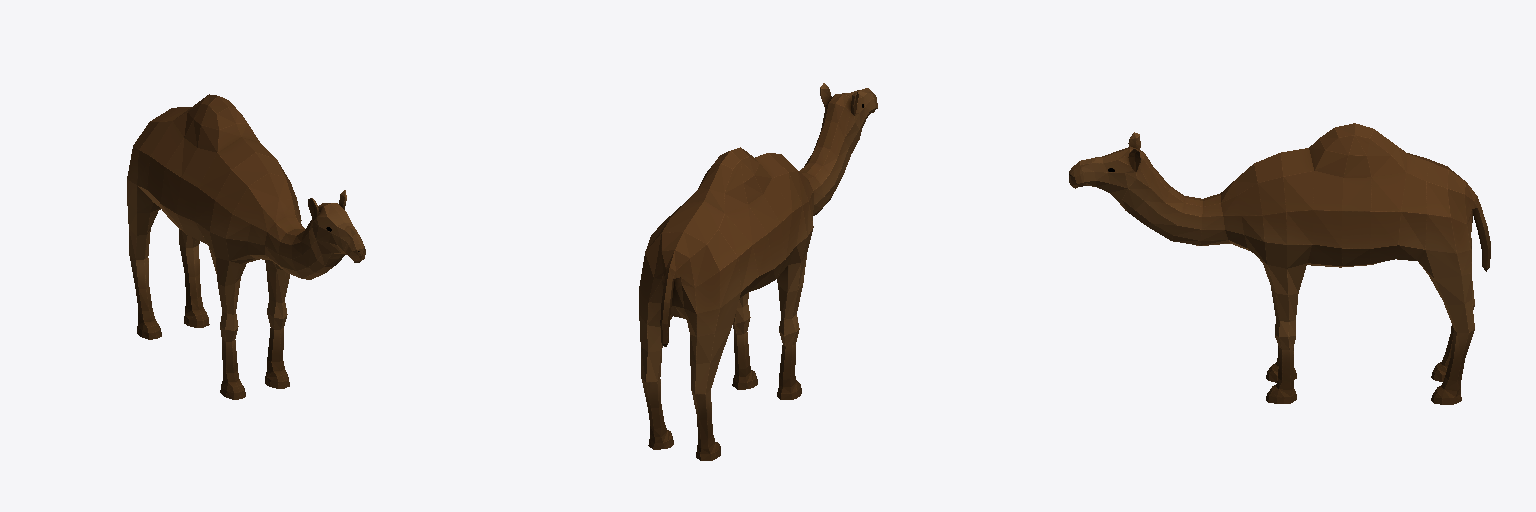
3 views of the same model, side by side, from view 1: azimuth 30°, elevation 25°; view 2: azimuth 150°, elevation 25°; view 3: azimuth 270°, elevation 25° (orthographic).
Visible parts, largest first — view 1: DromedaryCamels_Mesh; view 2: DromedaryCamels_Mesh; view 3: DromedaryCamels_Mesh.
Part boxes in pixels (x1,y1,x2,y2): DromedaryCamels_Mesh: (127, 94, 365, 399); DromedaryCamels_Mesh: (639, 83, 877, 460); DromedaryCamels_Mesh: (1069, 123, 1490, 404).
Size of the model in its own units: 3.42 by 8.64 by 12.47.
Materials: 1 (1 with a texture image).